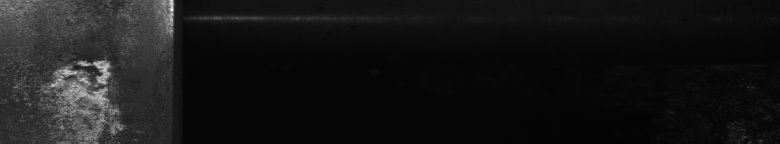kb: (5, 10, 131, 136)
